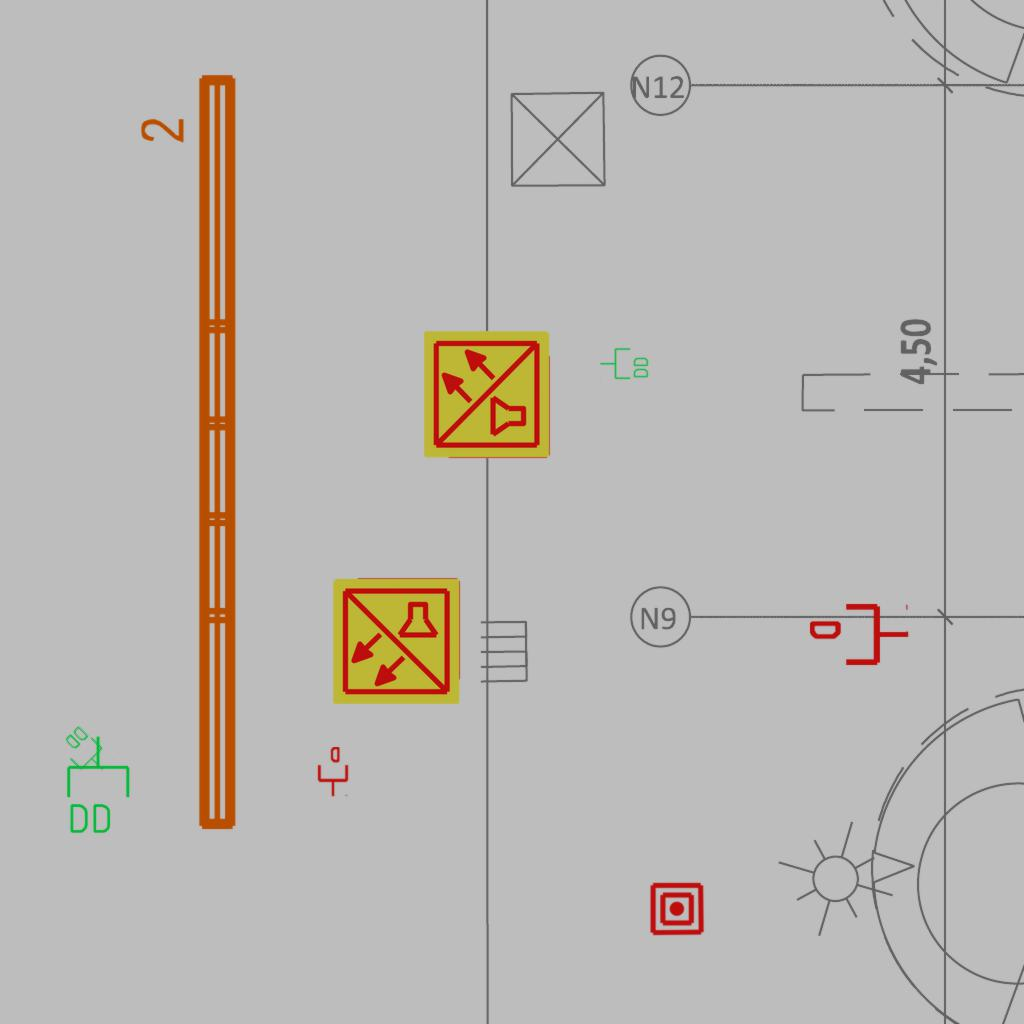Ambulanz_Pendelleuchte_LED: (136, 66, 248, 840)
Datenanschluss_einfach: (810, 600, 910, 669), (316, 747, 350, 797)
Datenanschluss_zweifach: (63, 734, 132, 837), (55, 721, 116, 783), (599, 347, 650, 381)
NAM-Nichtautomatischer_Melder: (649, 881, 705, 937)
OKW_Multisensormelder_(Kombination_optischer_Rauch-Kahlenmonoxid_Waerme-Melder): (421, 328, 553, 460), (330, 575, 462, 707)
